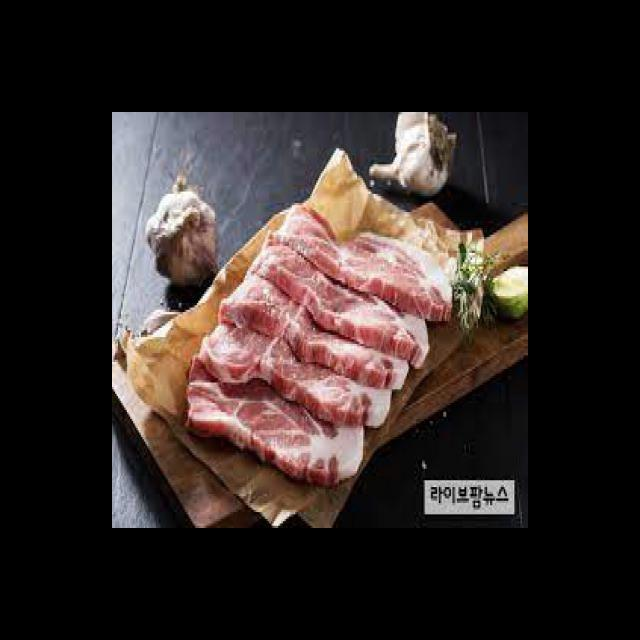pork: (183, 348, 375, 492), (228, 274, 426, 392), (278, 198, 458, 326), (209, 317, 389, 437)
